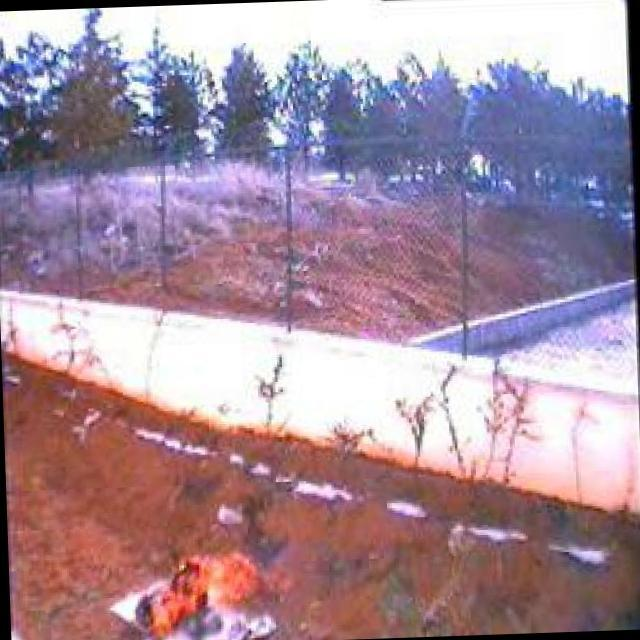Fire: (134, 544, 292, 640)
